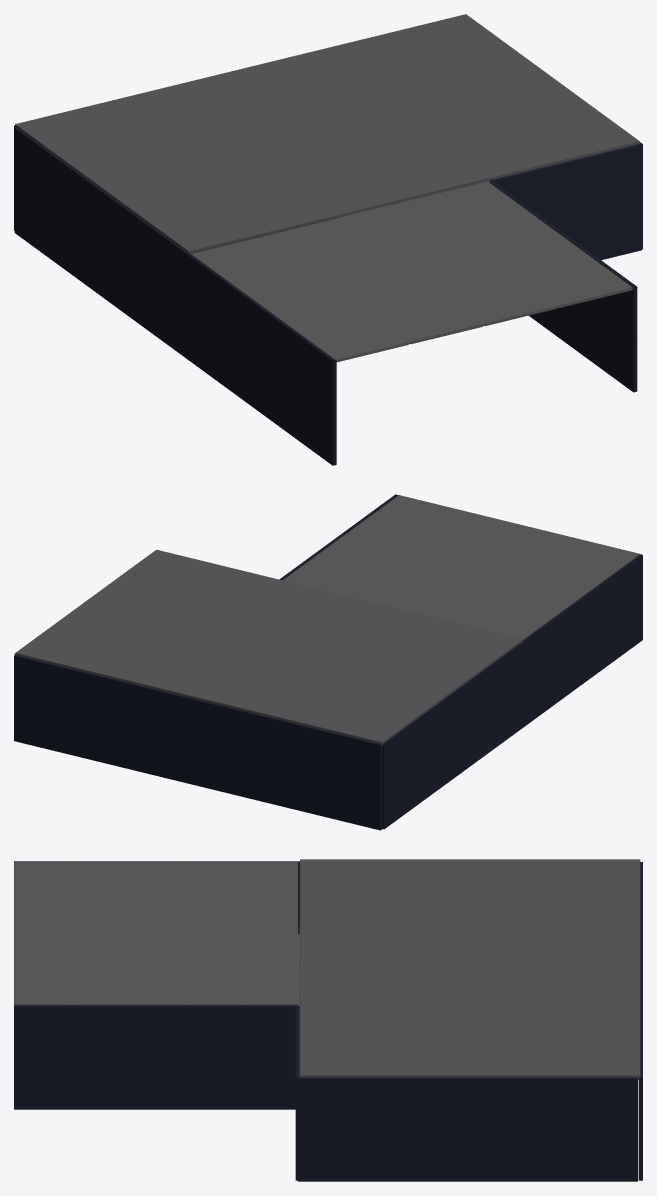
The model's file is cofreSala.fbx.
The picture shows the model from 3 angles, top to bottom: view 1: azimuth 30°, elevation 25°; view 2: azimuth 150°, elevation 25°; view 3: azimuth 270°, elevation 25°; orthographic projection. The views are drawn at different scales.
Visible parts, largest first — view 1: Teto, TetoEntradaCofre, ParedeLE, ParedeEntradaE, Parede1, Parede.EntradaD; view 2: Teto, ParedeFundo, TetoEntradaCofre, ParedeLE, ParedeEntradaE; view 3: Teto, TetoEntradaCofre, ParedeLD, Parede.EntradaD, ParedeFundo, Parede1.
Boxes of the visible parts, x1=… form: Teto: x1=15, y1=14, x2=639, y2=253; TetoEntradaCofre: x1=191, y1=181, x2=632, y2=362; ParedeLE: x1=14, y1=127, x2=190, y2=359; ParedeEntradaE: x1=188, y1=254, x2=336, y2=465; Parede1: x1=489, y1=144, x2=642, y2=260; Parede.EntradaD: x1=489, y1=181, x2=637, y2=392; Teto: x1=15, y1=549, x2=522, y2=745; ParedeFundo: x1=14, y1=655, x2=382, y2=830; TetoEntradaCofre: x1=283, y1=495, x2=640, y2=639; ParedeLE: x1=382, y1=640, x2=525, y2=829; ParedeEntradaE: x1=523, y1=554, x2=642, y2=725; Teto: x1=300, y1=859, x2=640, y2=1079; TetoEntradaCofre: x1=14, y1=862, x2=297, y2=1004; ParedeLD: x1=297, y1=1077, x2=637, y2=1181; Parede.EntradaD: x1=14, y1=1005, x2=297, y2=1109; ParedeFundo: x1=638, y1=862, x2=642, y2=1180; Parede1: x1=295, y1=1006, x2=299, y2=1180.
Size of the model in its own units: 1815 by 410 by 2218.
